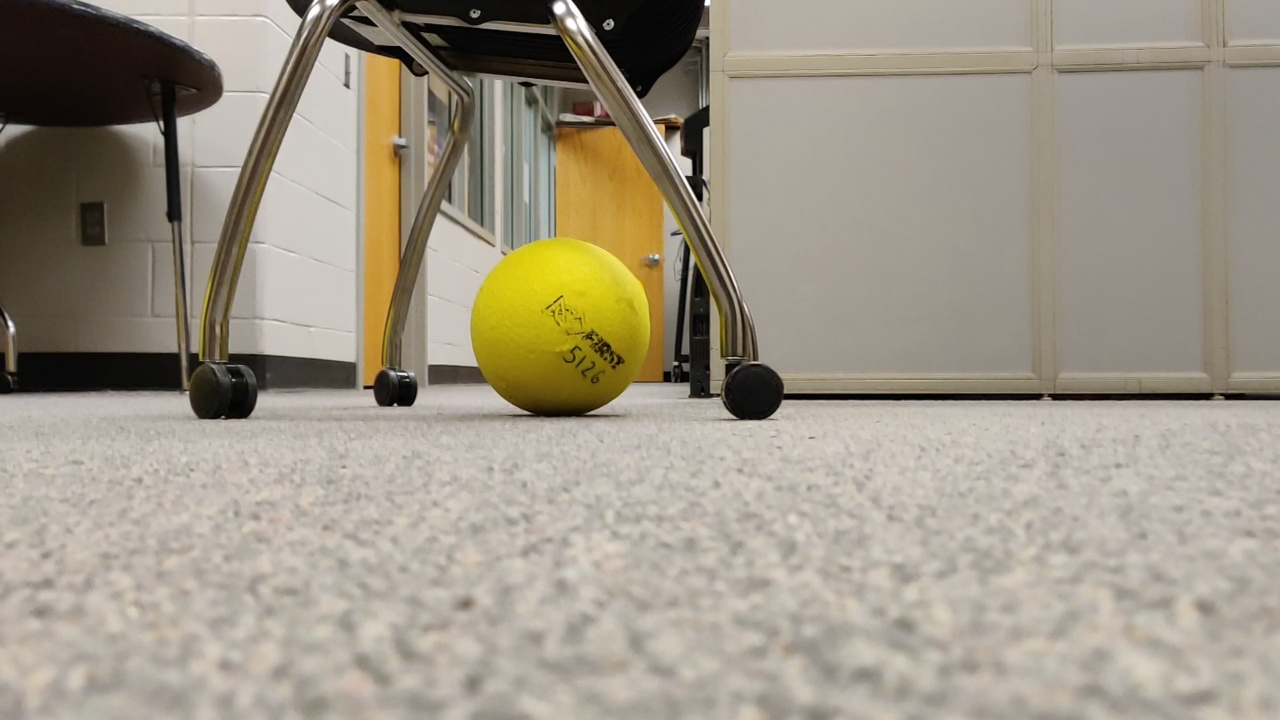Ball: (467, 237, 653, 419)
